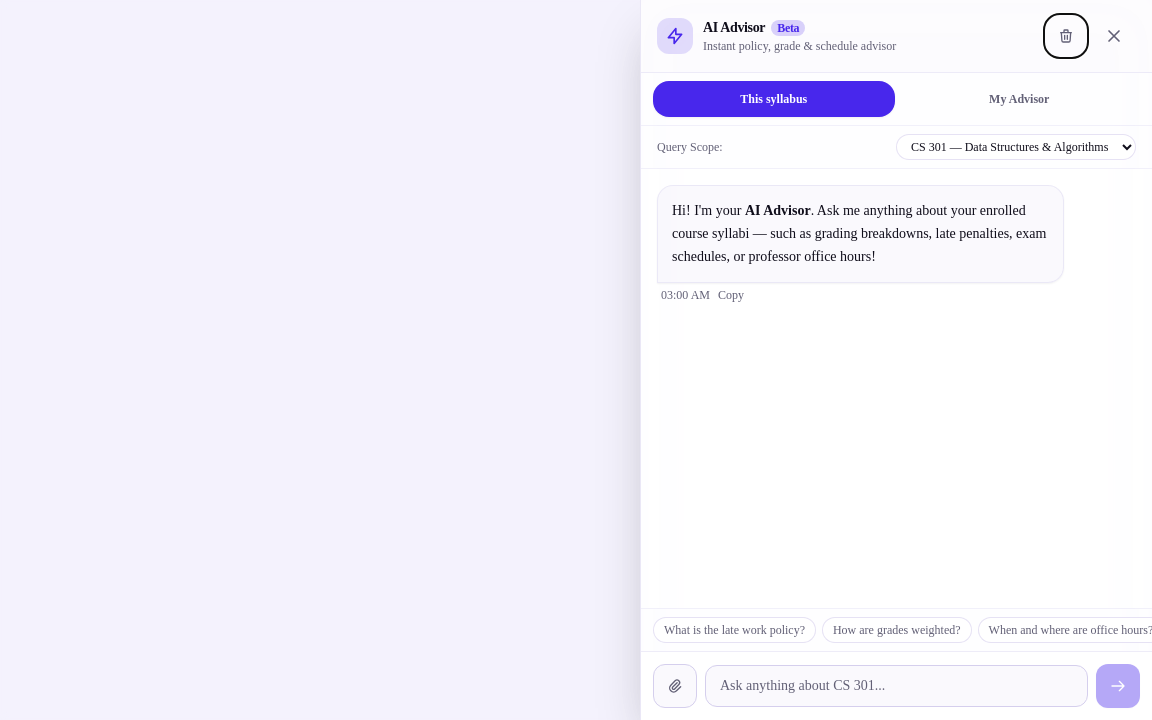
SyllabusChatDrawer (Item 35) › sends user message and displays AI assistant response with citations
Type "Can I get an extension on assignment 4?" into the field with placeholder "Ask anything about CS 301...".
click(896, 686); type("Can I get an extension on assignment 4?")  # box [705,665,1088,707]
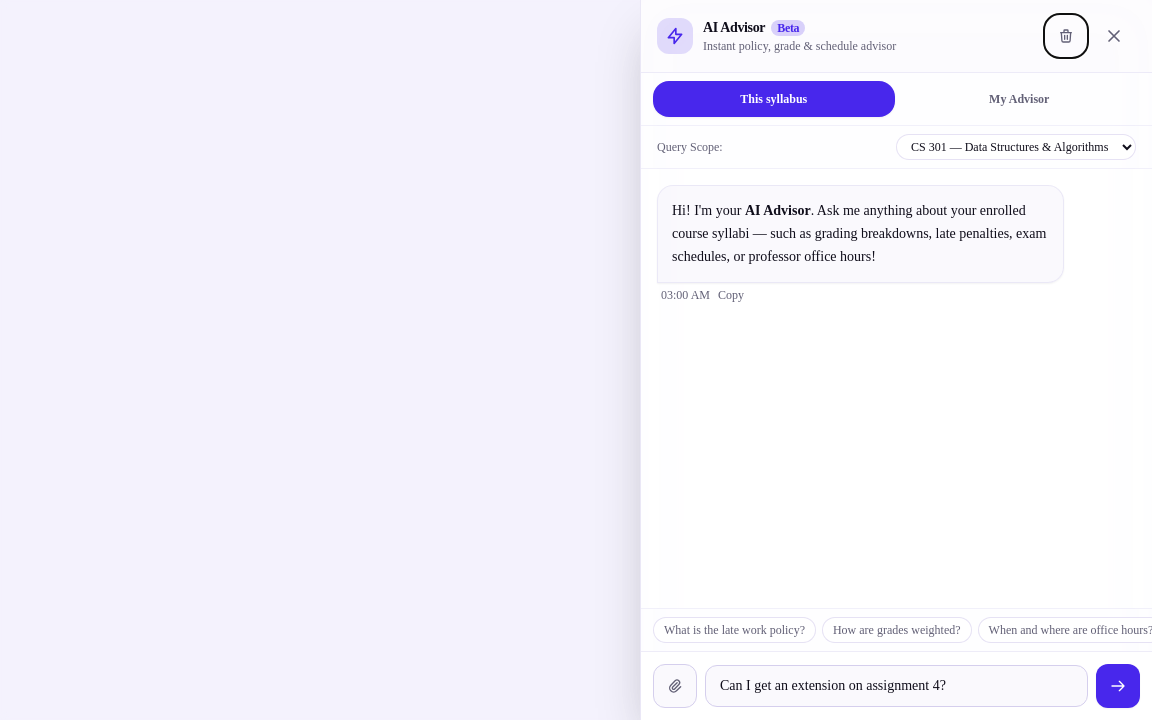
Click the button named "Send query".
click(1118, 686)  # box [1096,664,1140,708]
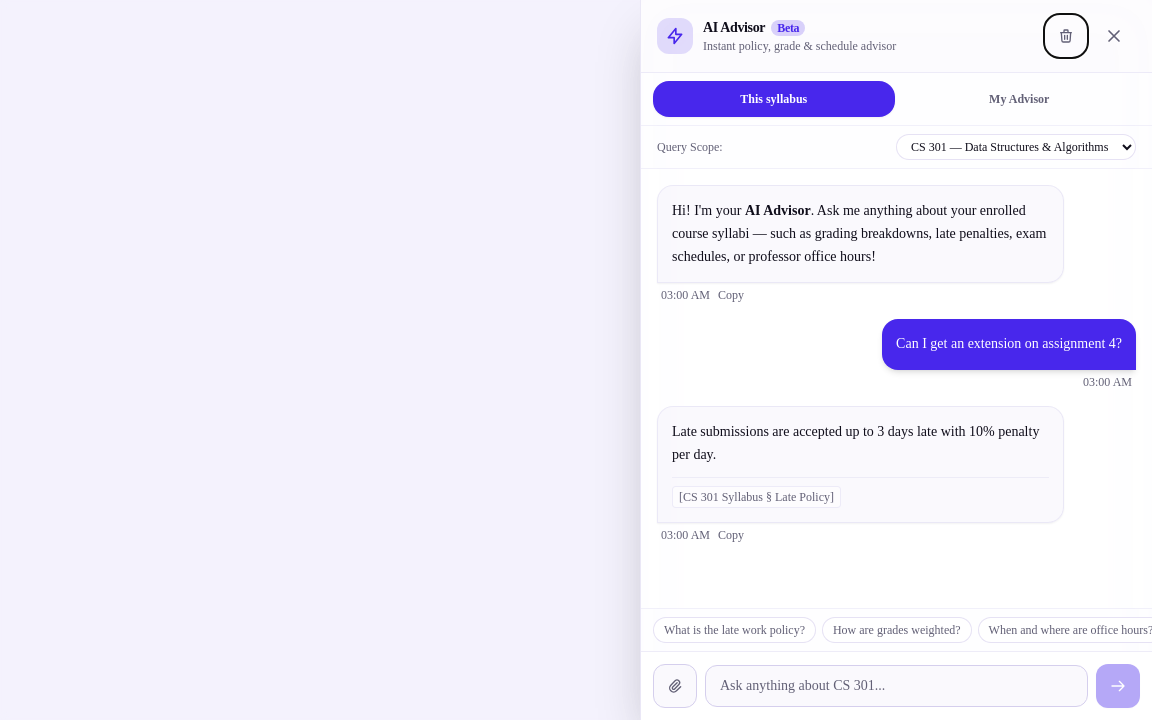
Now the text "Can I get an extension on assignment 4?" is shown, box [896,336,1122,351]
Now the text "Late submissions are accepted up to 3 days" is shown, box [672,424,1043,462]
Now the text "[CS 301 Syllabus § Late Policy]" is shown, box [672,486,841,508]
